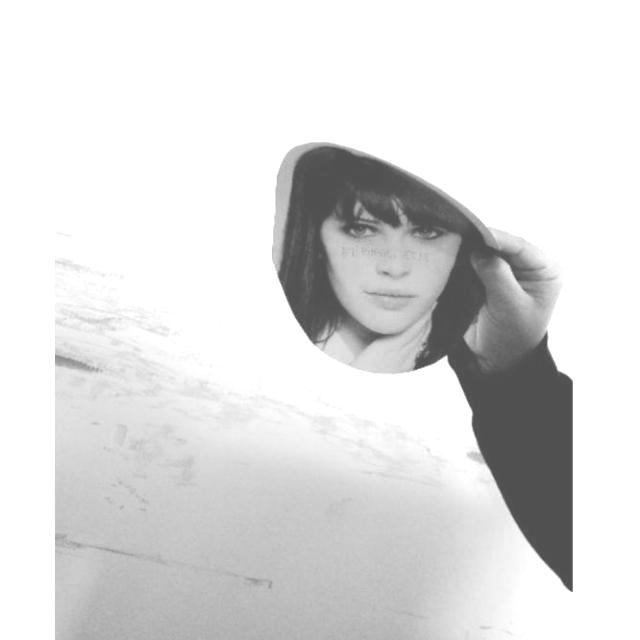fake: (258, 132, 512, 380)
